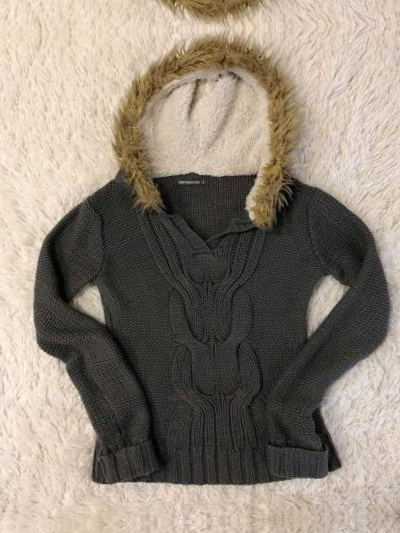Hoodie: (15, 49, 400, 499), (1, 0, 388, 9)
